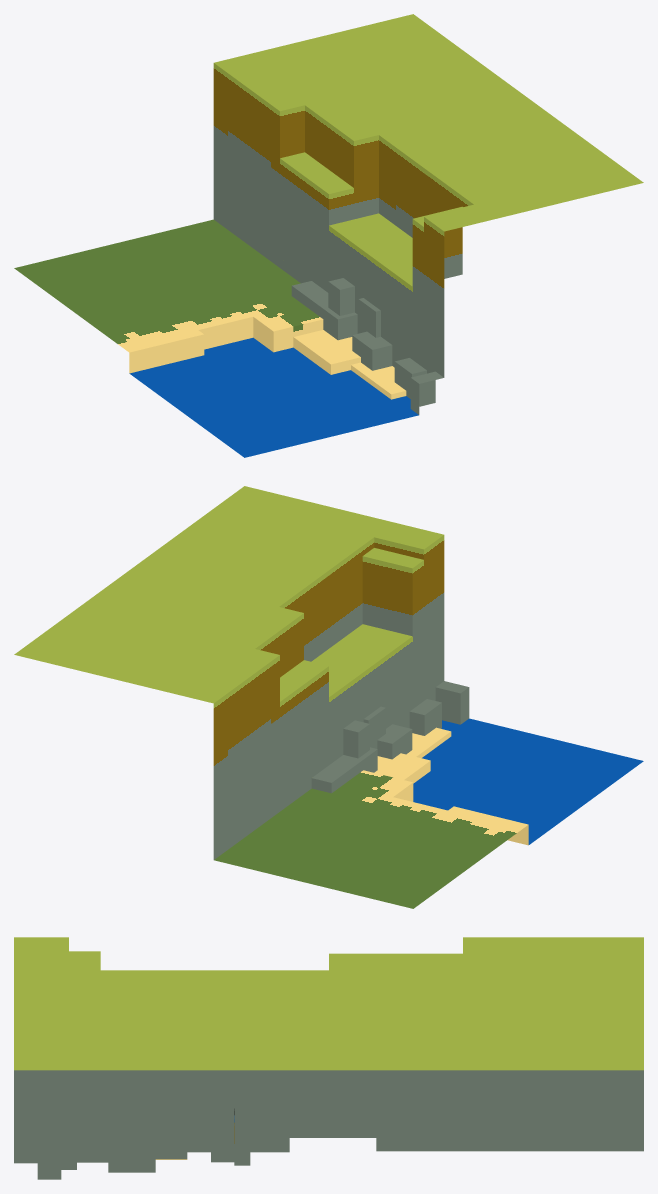
The model's file is LMMW(1).glb.
The picture shows the model from 3 angles, top to bottom: view 1: azimuth 30°, elevation 25°; view 2: azimuth 150°, elevation 25°; view 3: azimuth 270°, elevation 25°; orthographic projection. The views are drawn at different scales.
Parts seen in each view (by area): view 1: model_0.033; view 2: model_0.033; view 3: model_0.033.
Boxes of the visible parts, x1=… form: model_0.033: x1=14, y1=14, x2=643, y2=457; model_0.033: x1=14, y1=486, x2=643, y2=908; model_0.033: x1=14, y1=937, x2=643, y2=1179.
Bounding box in the file's own units: 80 × 34 × 80.
1 material, 1 textured.
